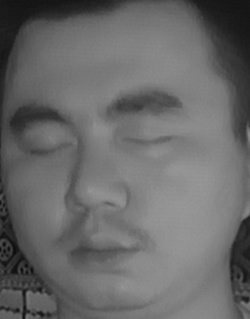blink: (24, 132, 74, 166), (124, 120, 170, 156)
mouth: (61, 223, 141, 278)
